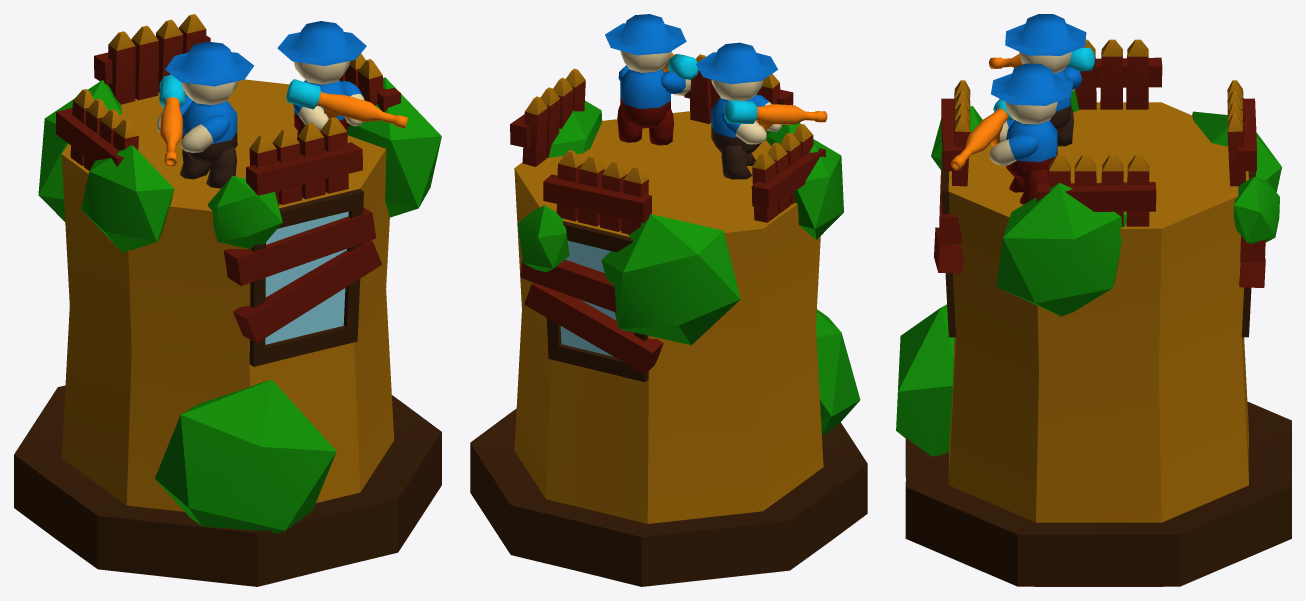
The model's file is kule.fbx.
3 renders of one model, left to right at view 1: azimuth 30°, elevation 25°; view 2: azimuth 150°, elevation 25°; view 3: azimuth 270°, elevation 25°, orthographic. The views are drawn at different scales.
Parts seen in each view (by area): view 1: Cylinder.001, adam.002, adam.001; view 2: Cylinder.001, adam.001, adam.002; view 3: Cylinder.001, adam.001, adam.002.
Part boxes in pixels (x1=…): Cylinder.001: x1=14, y1=14, x2=441, y2=586; adam.002: x1=157, y1=41, x2=253, y2=188; adam.001: x1=277, y1=21, x2=407, y2=135; Cylinder.001: x1=470, y1=54, x2=867, y2=586; adam.001: x1=605, y1=14, x2=698, y2=145; adam.002: x1=696, y1=42, x2=827, y2=179; Cylinder.001: x1=896, y1=39, x2=1291, y2=586; adam.001: x1=950, y1=63, x2=1073, y2=204; adam.002: x1=989, y1=14, x2=1095, y2=146.
Bounding box in the file's own units: 670 × 886 × 688.
